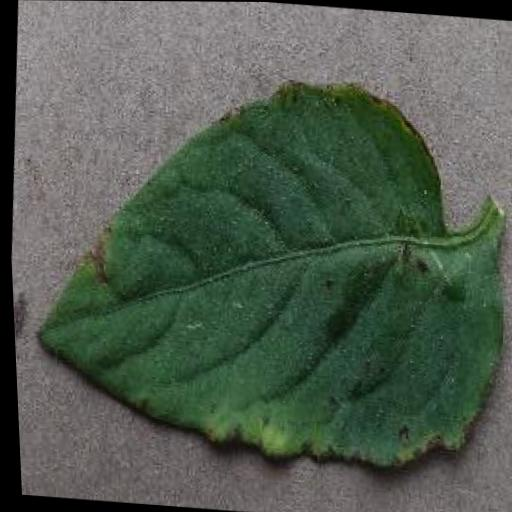Bacterial Spot: (13, 60, 512, 483)
